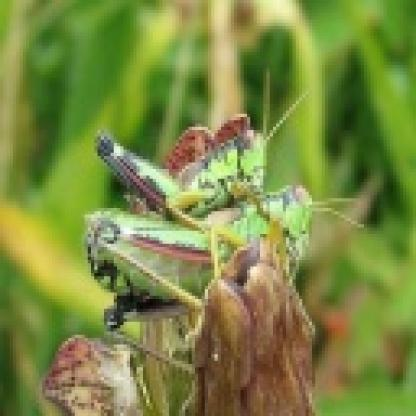grasshopper: (70, 188, 330, 336), (85, 100, 295, 210)
